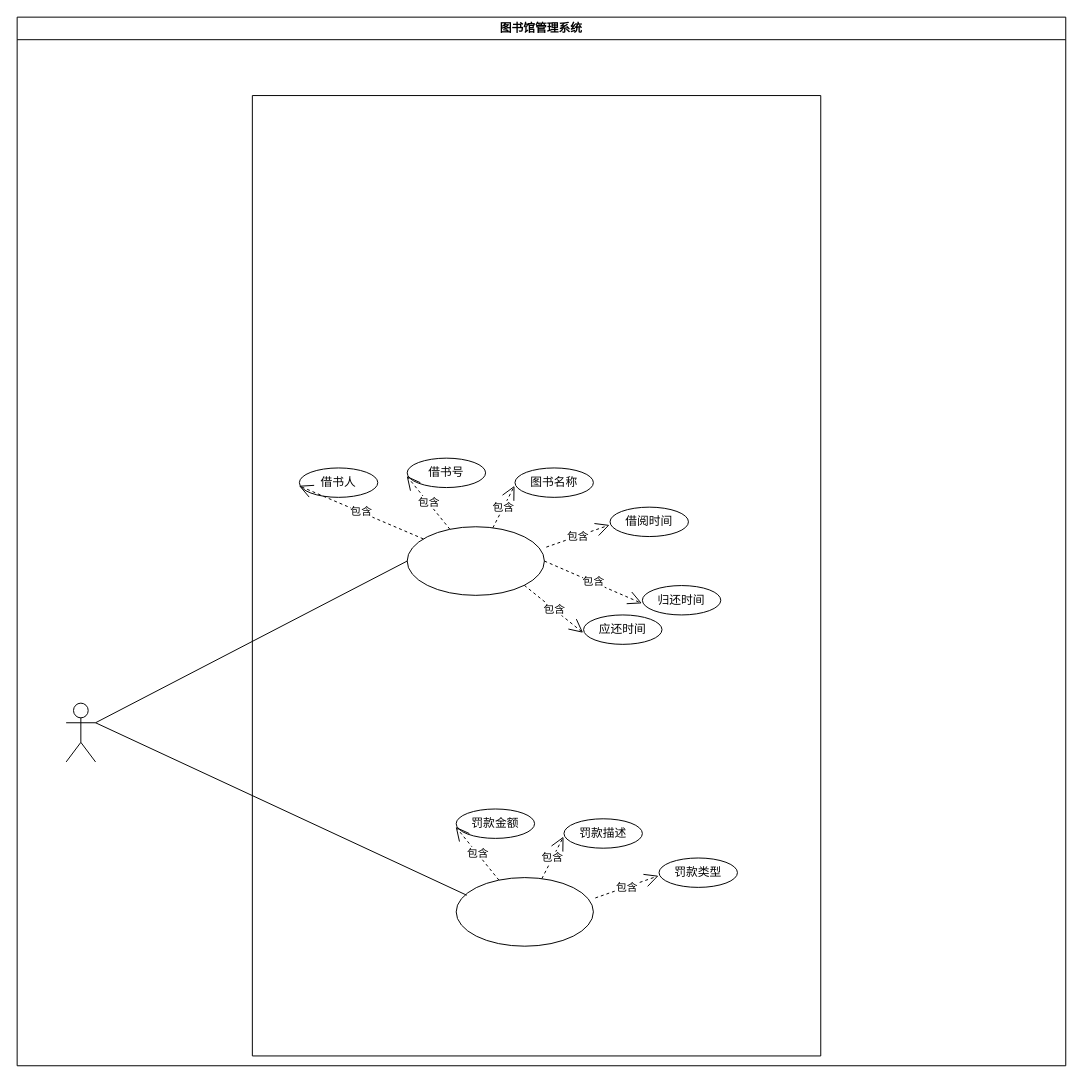
The diagram is 1083 pixels wide and 1083 high, and some of its shapes have lost their labels. The centre of each missing label's shape, as x and y in pixels:
图书管理员: (x=80, y=732)
罚款: (x=524, y=911)
通过借书: (x=475, y=560)
